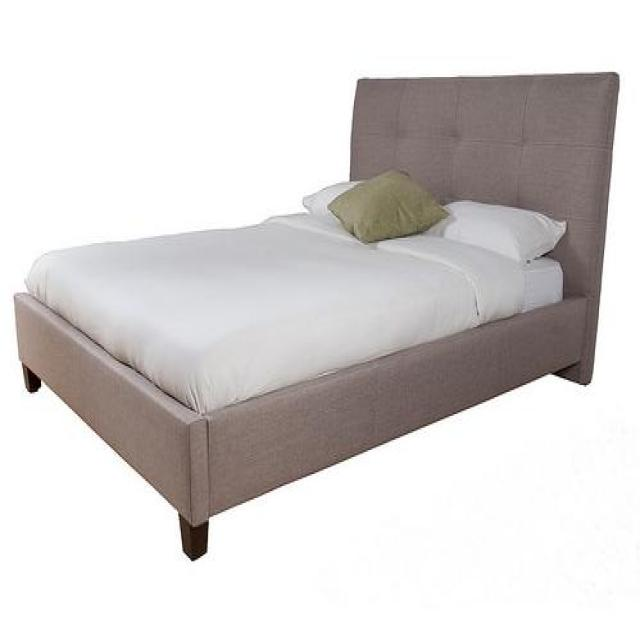bed: (12, 73, 621, 564)
